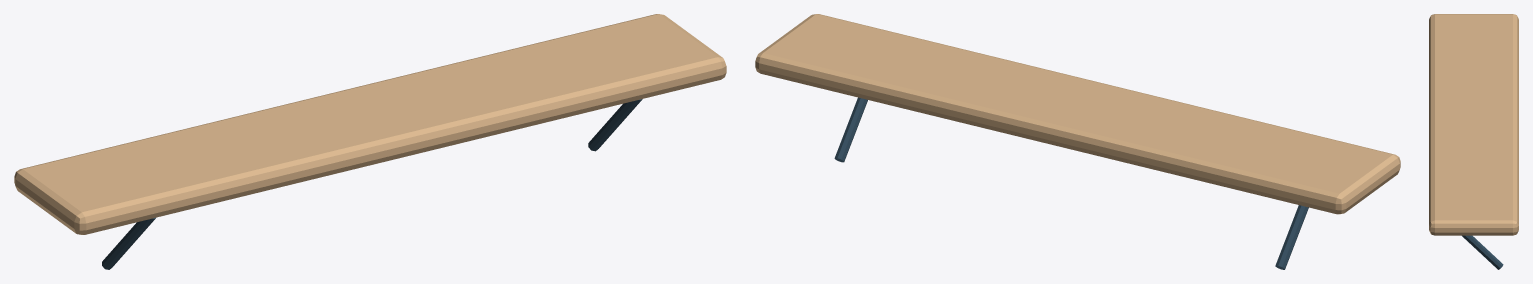
File: wall_shelf.glb
3 views of the same model, side by side, from view 1: azimuth 30°, elevation 25°; view 2: azimuth 150°, elevation 25°; view 3: azimuth 270°, elevation 25° (orthographic). The views are drawn at different scales.
Visible parts, largest first — view 1: wall_shelf_Mesh; view 2: wall_shelf_Mesh; view 3: wall_shelf_Mesh.
Part boxes in pixels (x1=…): wall_shelf_Mesh: x1=14, y1=14, x2=726, y2=269; wall_shelf_Mesh: x1=755, y1=14, x2=1400, y2=269; wall_shelf_Mesh: x1=1429, y1=14, x2=1518, y2=269.
Size of the model in its own units: 1.5 by 0.2434 by 0.27.
